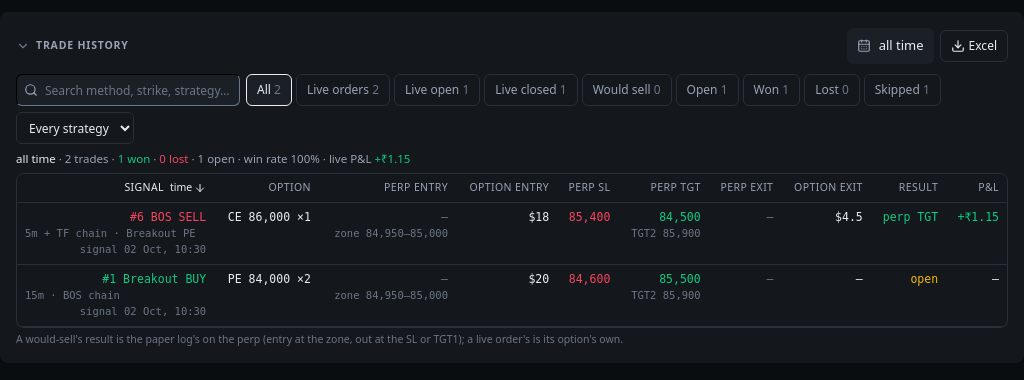
Test: the tabs › the counts follow the strategy picked
The image size is (1024, 380).
Select "BOS chain" in the dropdown named "which strategy" at (75, 128), box [16,112,134,144]
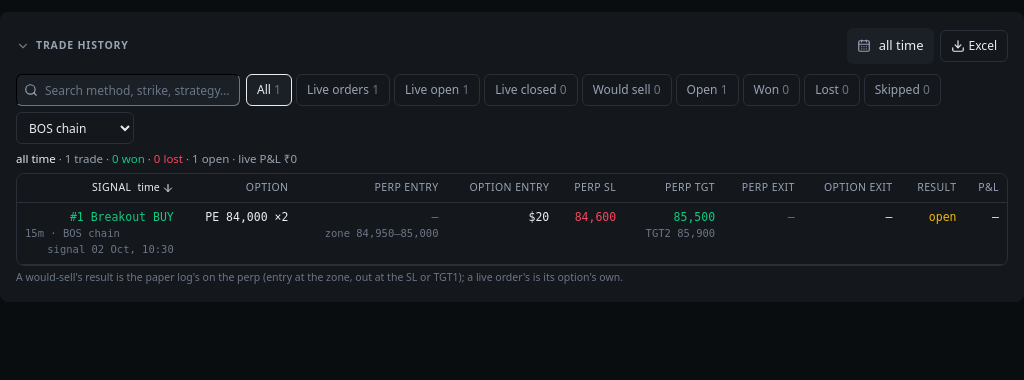
Expected: the button "All 1" is shown, [246,74,292,106]
Expected: the button "Skipped 0" is shown, [864,74,941,106]
